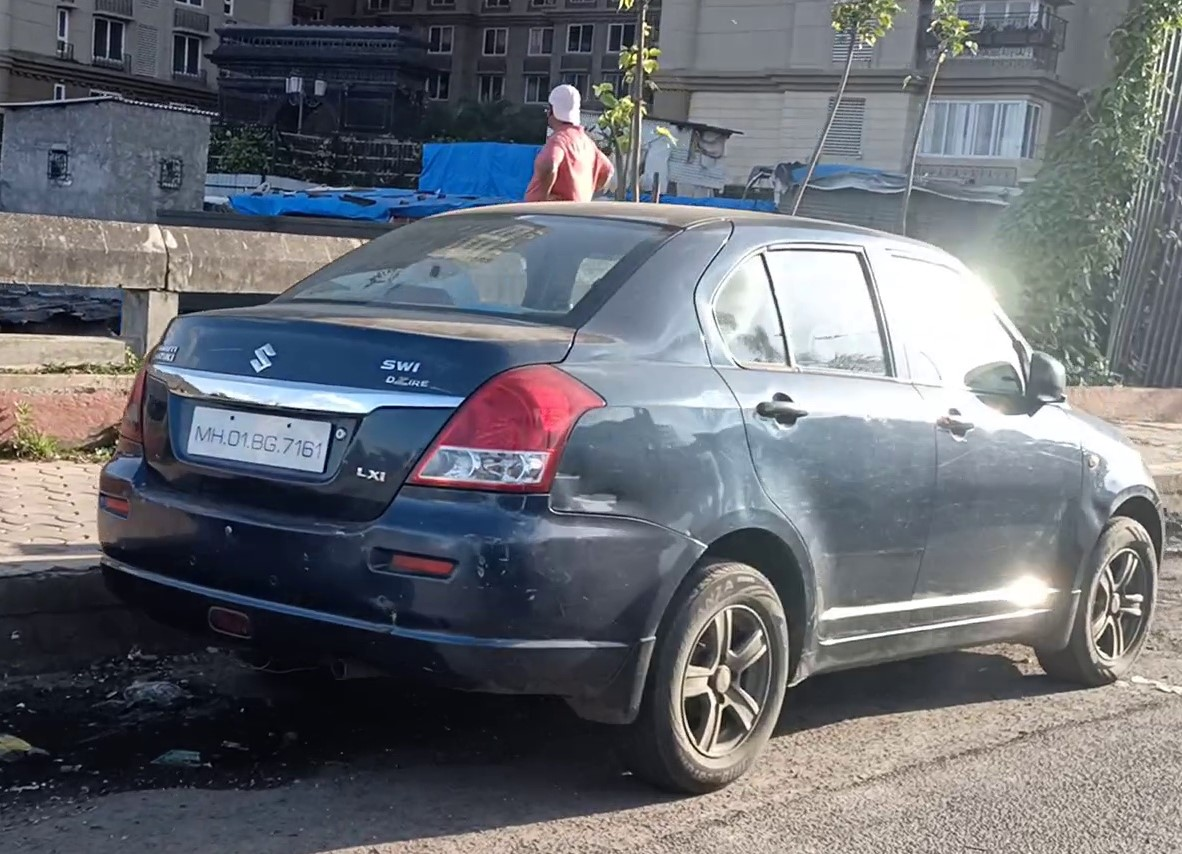MH01BG7161: (187, 404, 330, 474)
